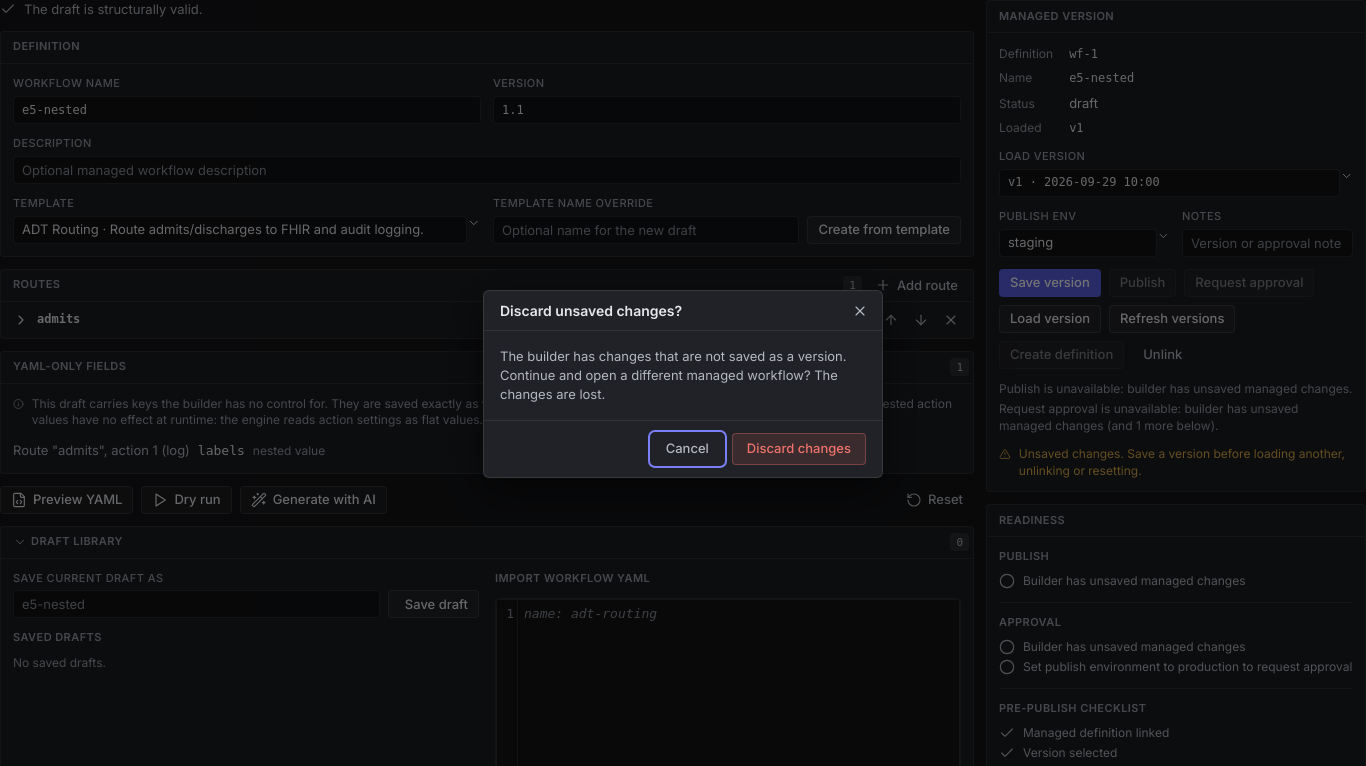
Test: WorkflowBuilder › replaces a managed draft only after acceptance and establishes the replacement baseline
The image size is (1366, 766).
Expected: the element with test id "workflow-yaml-only" is shown, [0,351,974,474]
Step 1. Click the button "Discard changes" → (799, 449), box [732,433,866,465]
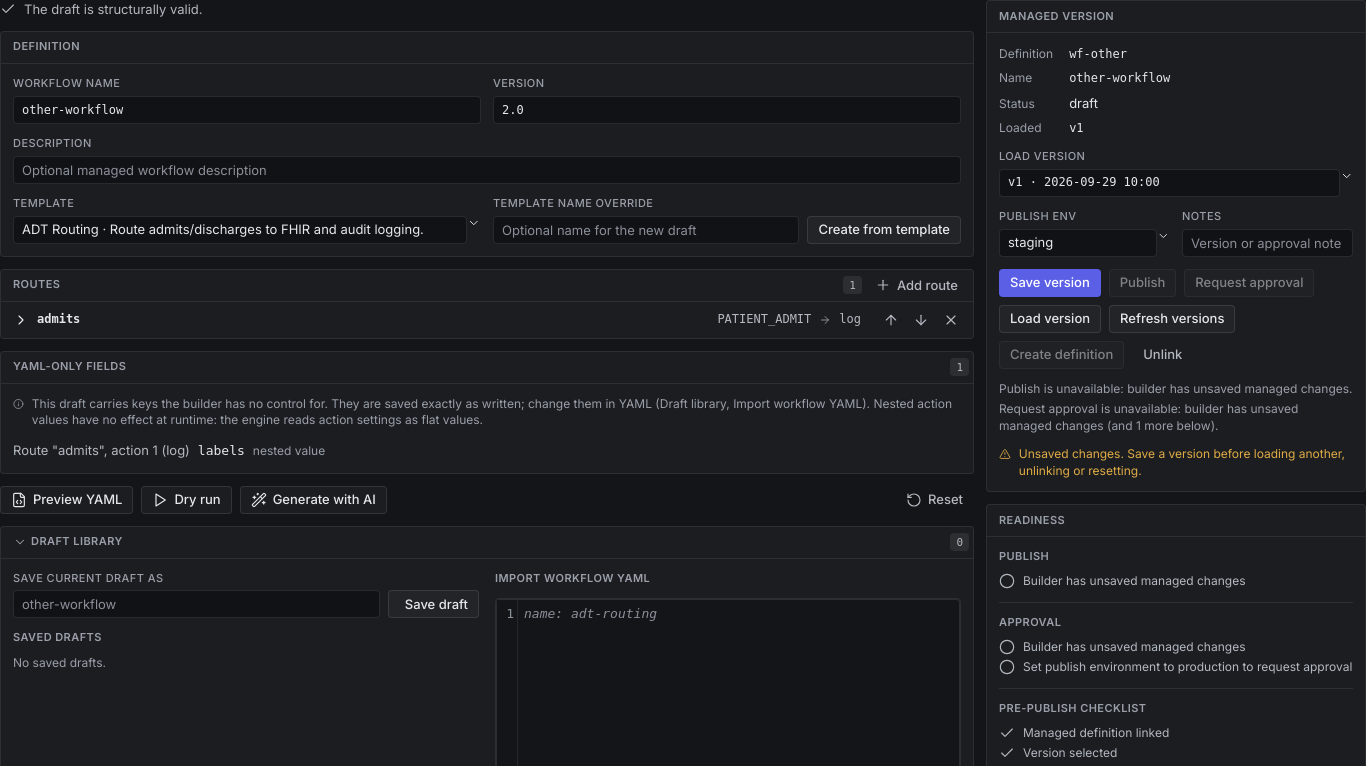
Result: the field showing "other-workflow" is shown at [13,96,481,124]
Result: the text "wf-other" is shown at [1069,47,1127,61]
